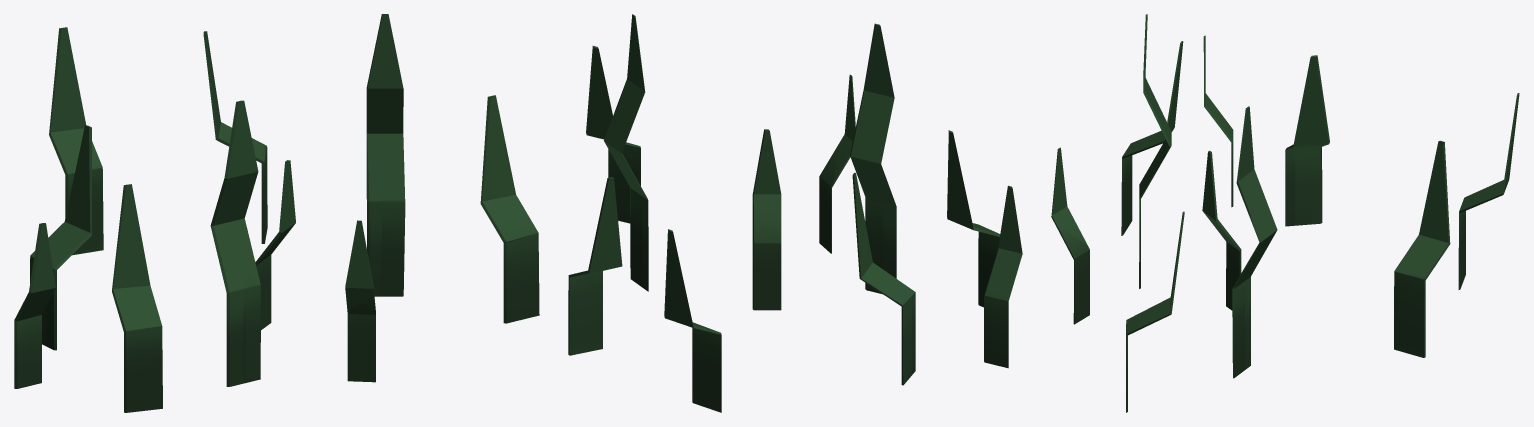
File: grass 1.fbx
3 views of the same model, side by side, from view 1: azimuth 30°, elevation 25°; view 2: azimuth 150°, elevation 25°; view 3: azimuth 270°, elevation 25° (orthographic). The views are drawn at different scales.
Parts seen in each view (by area): view 1: Plane.009; view 2: Plane.009; view 3: Plane.009.
Boxes of the visible parts, box(x1,y1,x2,y2) form: Plane.009: box(14, 14, 539, 412); Plane.009: box(568, 14, 1022, 412); Plane.009: box(1051, 14, 1519, 412).
Size of the model in its own units: 0.744 by 0.424 by 0.676.
1 material, 1 textured.
